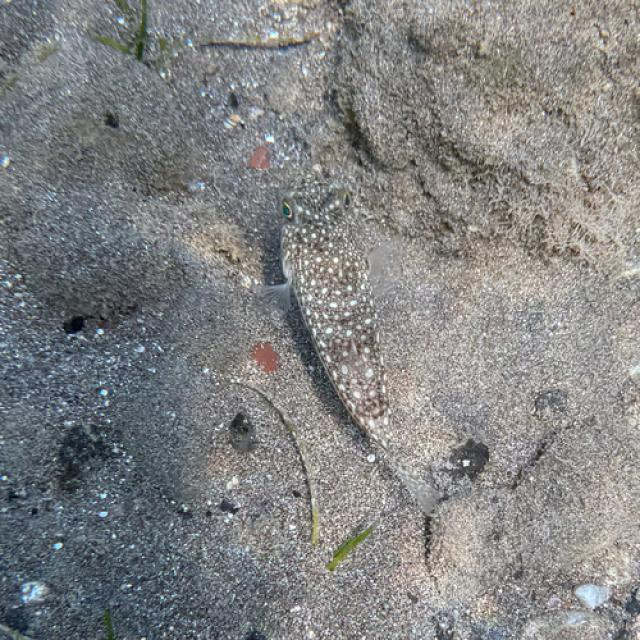Balik: (268, 181, 439, 513)
